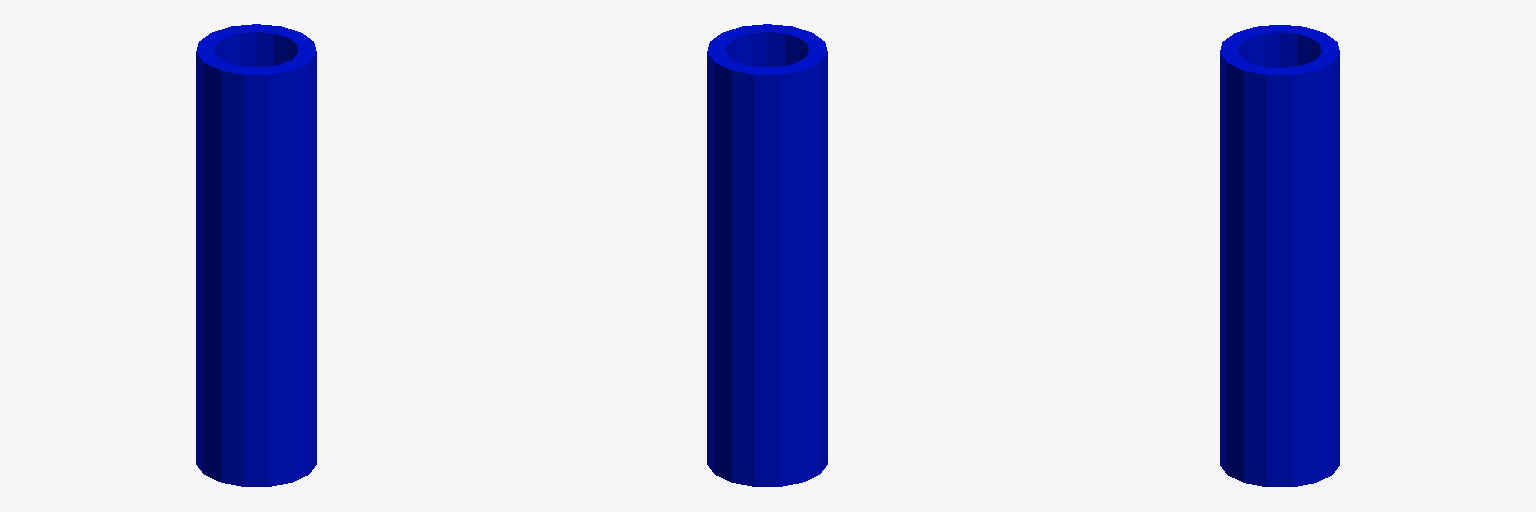
The model's file is Pipe.obj.
3 renders of one model, left to right at view 1: azimuth 30°, elevation 25°; view 2: azimuth 150°, elevation 25°; view 3: azimuth 270°, elevation 25°, orthographic.
Parts seen in each view (by area): view 1: Pipe; view 2: Pipe; view 3: Pipe.
Part boxes in pixels (x1,y1,x2,y2): Pipe: (196, 24, 316, 486); Pipe: (707, 24, 827, 486); Pipe: (1220, 25, 1339, 486).
Bounding box in the file's own units: 0.3956 × 1.5 × 0.3978.